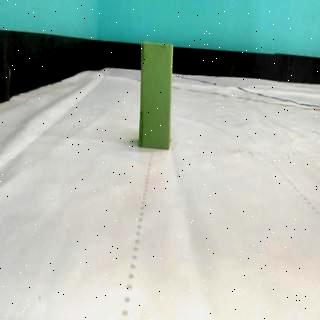greenbox: (138, 41, 174, 152)
